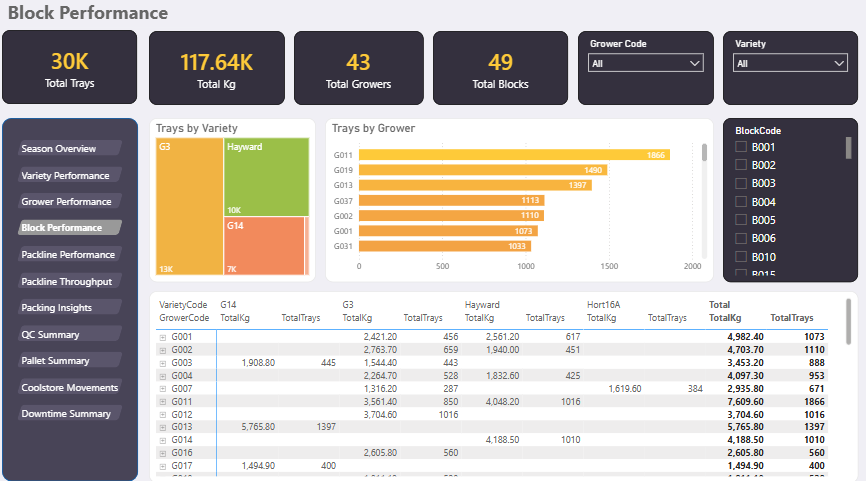

This screenshot's page, from the dashboard's own definition file:
{"tool":"powerbi","page":{"name":"Block Performance","canvas":[1280,720],"ordinal":3},"visuals":[{"type":"shape","box":[6,182.4,200.5,535.2],"z":0},{"type":"cardVisual","fields":{"Data":["Sum(view_BlockPerformance.TotalTrays)"]},"box":[5.8,53.3,199,109],"z":1000},{"type":"cardVisual","fields":{"Data":["Sum(view_BlockPerformance.TotalKg)"]},"box":[222.8,53.8,199.8,109],"z":2000},{"type":"cardVisual","fields":{"Data":["Count(view_BlockPerformance.GrowerCode)"]},"box":[436.6,53.8,190.5,109],"z":3000},{"type":"cardVisual","fields":{"Data":["CountNonNull(view_BlockPerformance.BlockCode)"]},"box":[641.1,53.8,199,109],"z":4000},{"type":"pivotTable","title":"Hourly Throughput","fields":{"Values":["Sum(view_BlockPerformance.TotalKg)","Sum(view_BlockPerformance.TotalTrays)"],"Rows":["view_BlockPerformance.GrowerCode","view_BlockPerformance.BlockCode"],"Columns":["view_BlockPerformance.VarietyCode"]},"box":[222.8,437.9,1044.9,282.7],"z":5000},{"type":"slicer","fields":{"Values":["view_BlockPerformance.GrowerCode"]},"box":[854.1,53.8,199.8,109.1],"z":6000},{"type":"slicer","fields":{"Values":["view_BlockPerformance.VarietyCode"]},"box":[1067.9,54.5,198.8,109],"z":7000},{"type":"treemap","title":"Trays by Variety","fields":{"Values":["Sum(view_BlockPerformance.TotalTrays)"],"Details":["view_BlockPerformance.VarietyCode"]},"box":[222.4,182.6,246,241.6],"z":8000},{"type":"clusteredBarChart","title":"Trays by Grower","fields":{"Category":["view_BlockPerformance.GrowerCode"],"Y":["Sum(view_BlockPerformance.TotalTrays)"]},"box":[481.7,182.6,573,241.6],"z":9000},{"type":"pageNavigator","box":[27.4,214.6,157,420.5],"z":10000},{"type":"bookmarkNavigator","box":[680.5,113.4,599.5,50.1],"z":11000},{"type":"slicer","fields":{"Values":["view_BlockPerformance.BlockCode"]},"box":[1067.9,182.6,198.8,241.6],"z":11001},{"type":"textbox","box":[8.8,2.9,290.2,47.1],"z":11002}]}

Visuals, with their boxes on the page's 1280x720 design canvas (x1, y1, x2, y2). These are canvas units, not pixel positions in the 866x481 screenshot, which may show the page scaled, cropped or inside an application window:
shape: (6,182,206,718)
cardVisual - Sum(view_BlockPerformance.TotalTrays): (6,53,205,162)
cardVisual - Sum(view_BlockPerformance.TotalKg): (223,54,423,163)
cardVisual - Count(view_BlockPerformance.GrowerCode): (437,54,627,163)
cardVisual - CountNonNull(view_BlockPerformance.BlockCode): (641,54,840,163)
"Hourly Throughput" pivotTable: (223,438,1268,721)
slicer - view_BlockPerformance.GrowerCode: (854,54,1054,163)
slicer - view_BlockPerformance.VarietyCode: (1068,54,1267,164)
"Trays by Variety" treemap: (222,183,468,424)
"Trays by Grower" clusteredBarChart: (482,183,1055,424)
pageNavigator: (27,215,184,635)
bookmarkNavigator: (680,113,1280,164)
slicer - view_BlockPerformance.BlockCode: (1068,183,1267,424)
textbox: (9,3,299,50)
